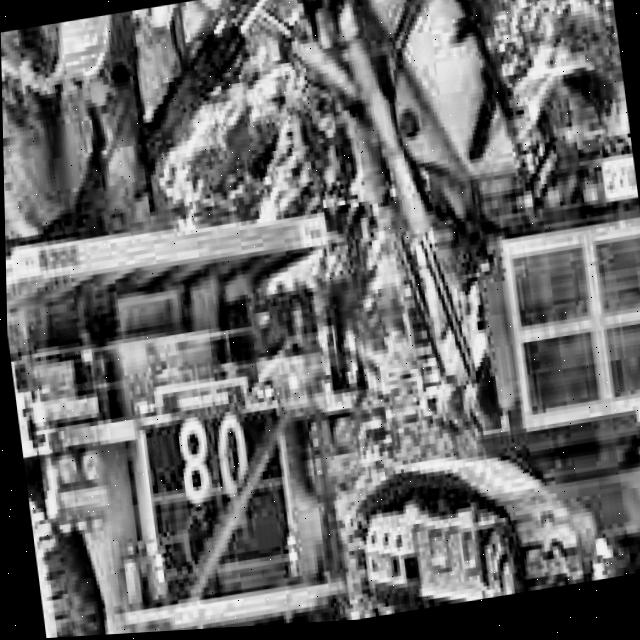dump_truck: (3, 176, 380, 640)
excavator: (0, 0, 640, 640)
